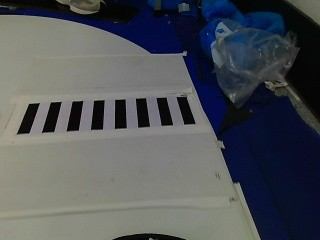crosswalk: (12, 91, 199, 132)
